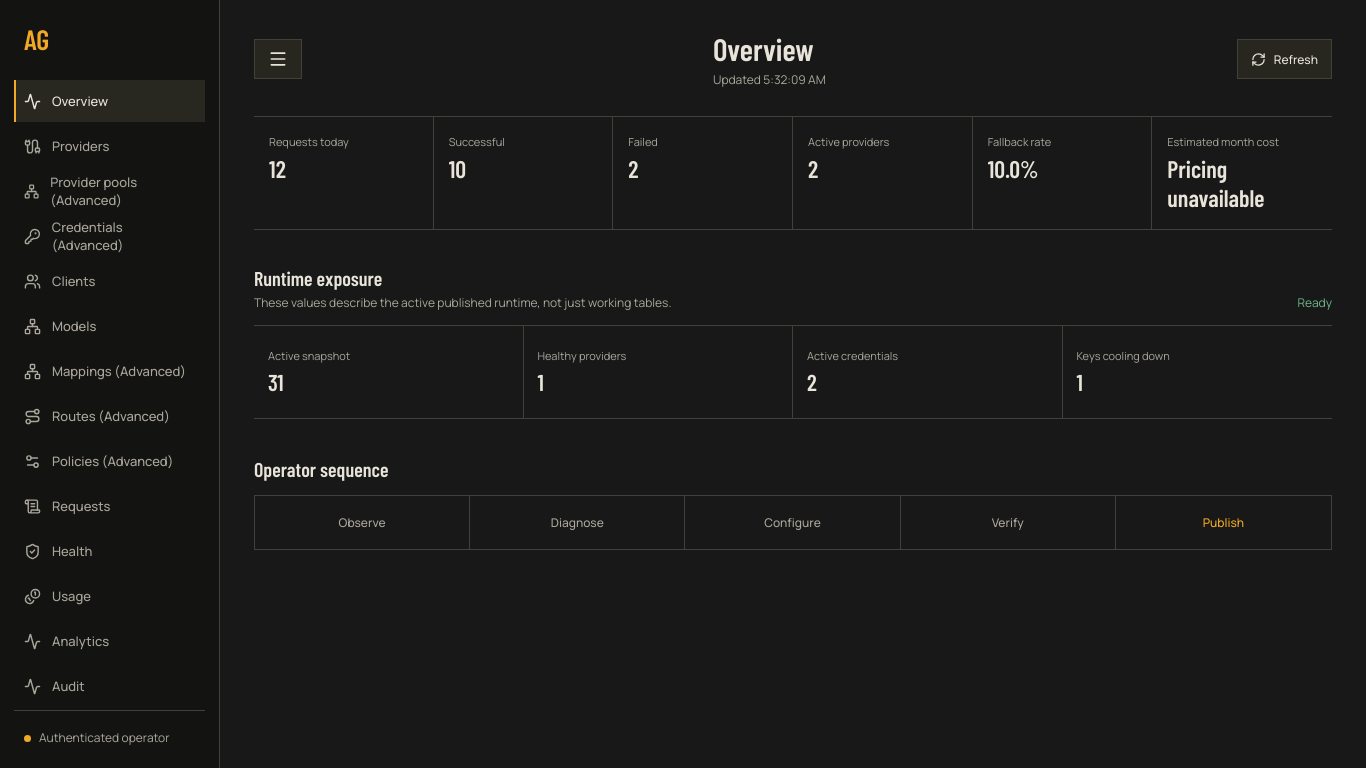
Test: control plane › never renders an unpriced attempt as a measured zero cost
What coordinates should you click on to do the following:
click the button "Requests"
I would click on:
 (110, 506)
Its box is [14, 485, 205, 527].
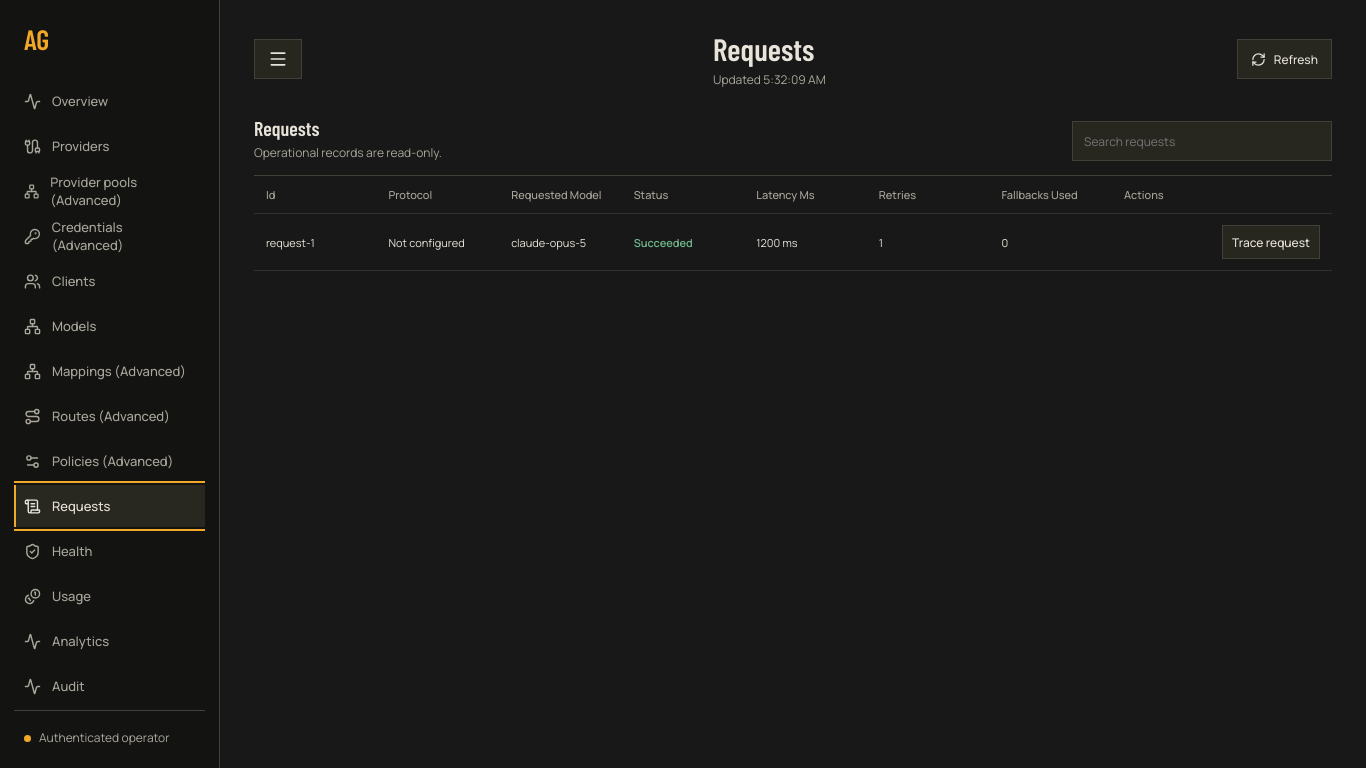
What coordinates should you click on to do the following:
click the button "Trace request"
I would click on:
 (1271, 242)
Its box is [1222, 225, 1320, 259].
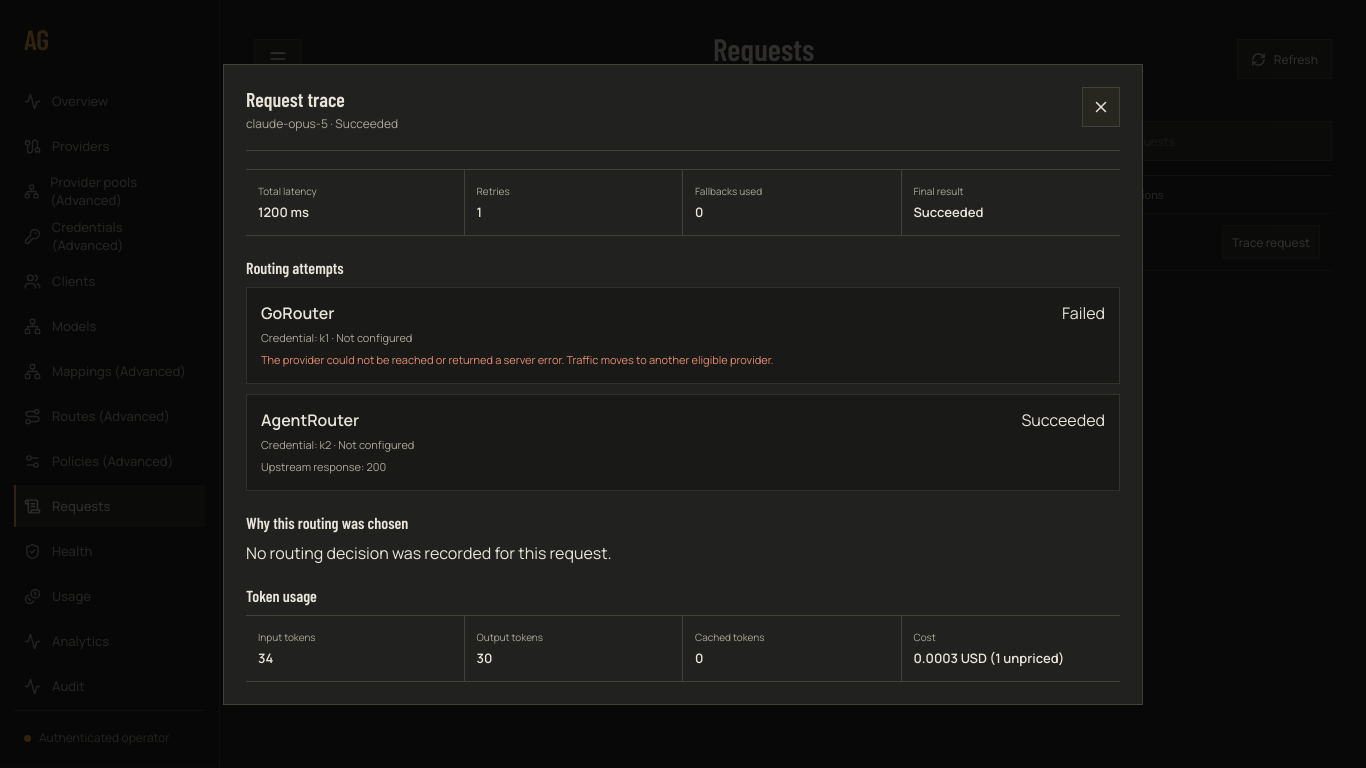
Check: the dialog "Request trace" is shown, box [223, 64, 1143, 704]
Check: the text "0.0003 USD (1 unpriced)" is shown, box [914, 648, 1064, 666]
